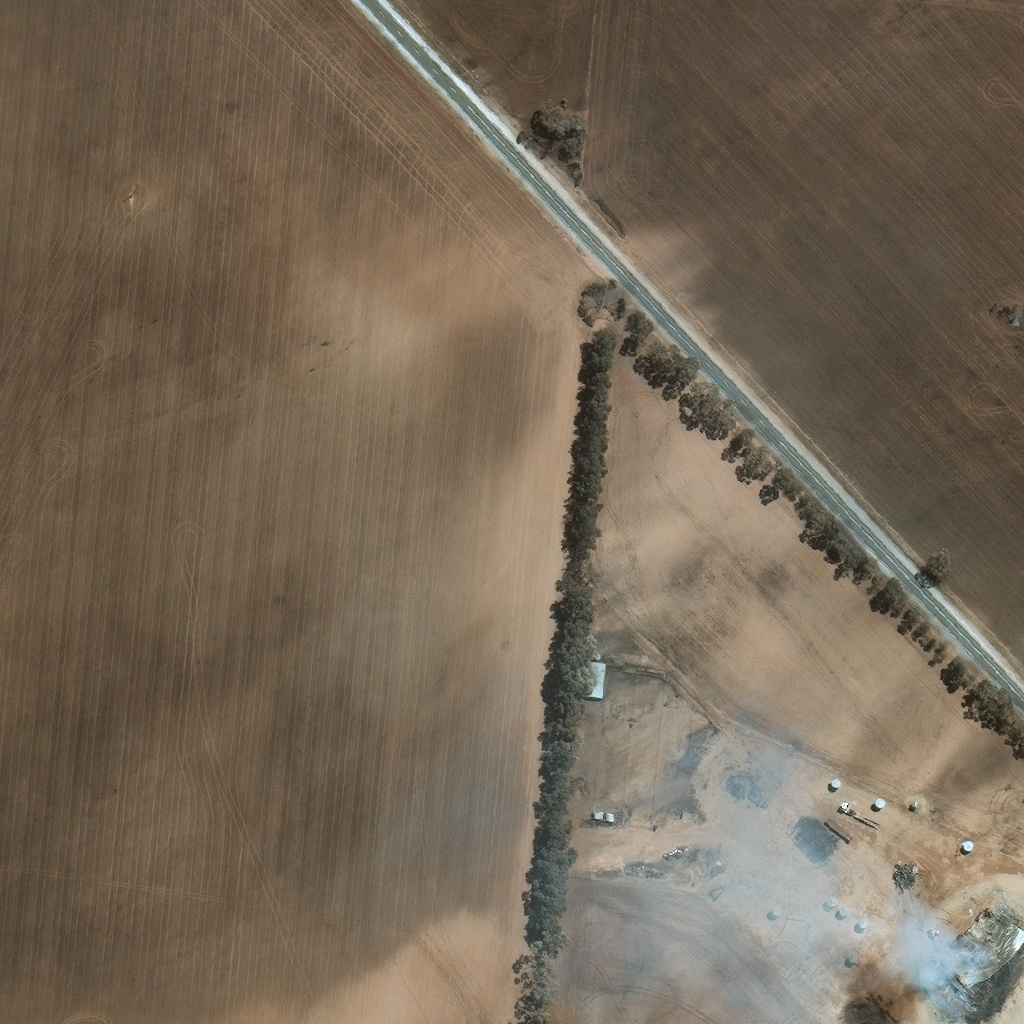0 no-damage: (582, 659, 605, 697), (828, 770, 841, 781), (960, 837, 971, 848), (876, 797, 887, 807)
1 minor-damage: (594, 809, 614, 821)
4 un-classified: (869, 962, 881, 974), (844, 928, 855, 939), (865, 790, 876, 800), (930, 828, 941, 838), (948, 833, 959, 843), (817, 764, 828, 773), (897, 809, 907, 818), (849, 779, 860, 787), (996, 841, 1004, 850)
